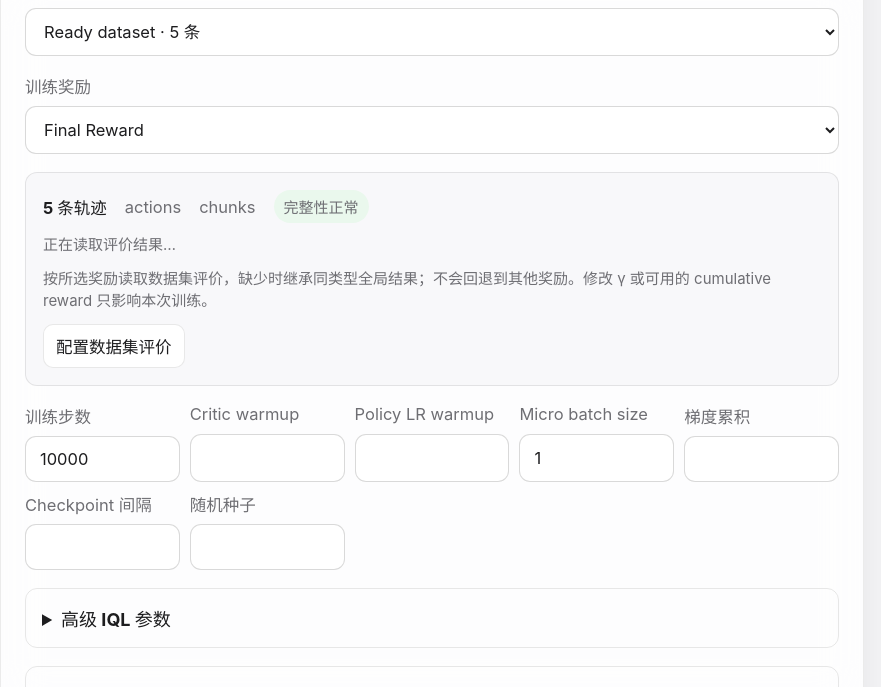
it: dataset-pinned training reward › opens the same inline dataset configuration from training
(page scrolled)
Click the button "配置数据集评价".
click(114, 346)  # box [43,324,184,368]
(page scrolled)
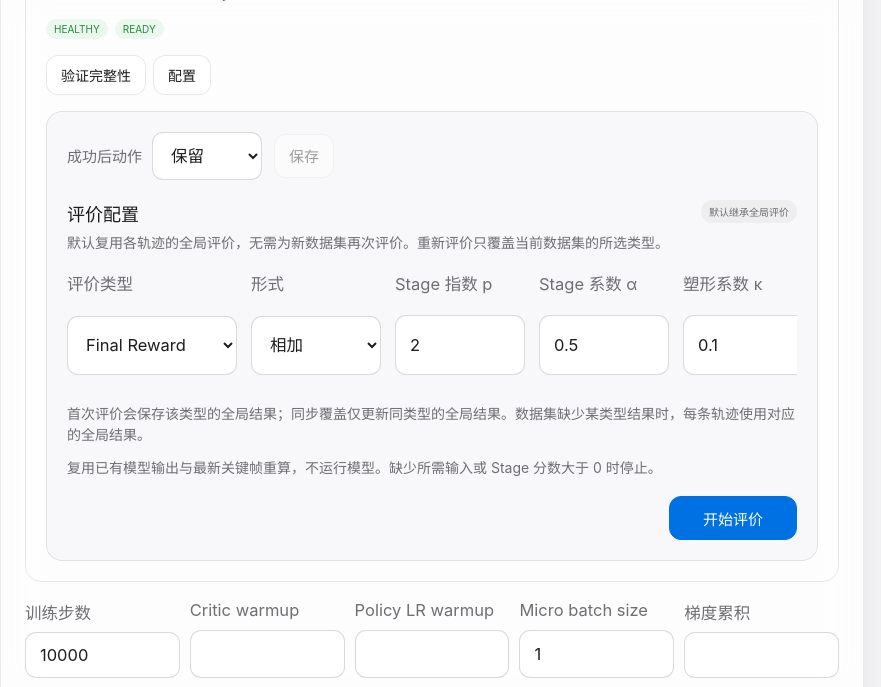
Now the dropdown labelled "评价类型" is shown, box [67,316,237,375]
